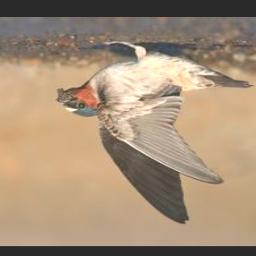Swallow: (55, 39, 255, 226)
